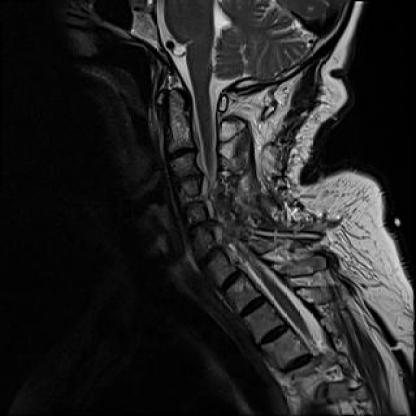Disc Protrusionrotation: (194, 243, 228, 267), (180, 218, 214, 235), (173, 173, 204, 188), (175, 197, 207, 211)
Osteophytesrotation: (180, 218, 214, 235), (173, 173, 204, 188)
